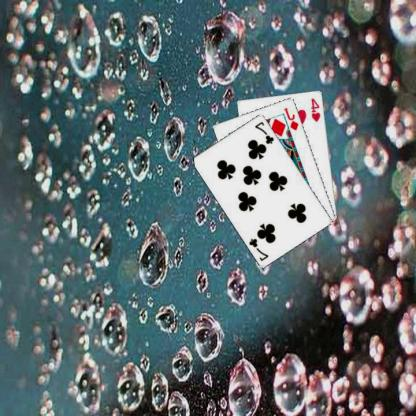4H: (310, 96, 324, 122)
7C: (254, 119, 277, 145), (248, 236, 271, 262)
JD: (283, 105, 302, 131)
